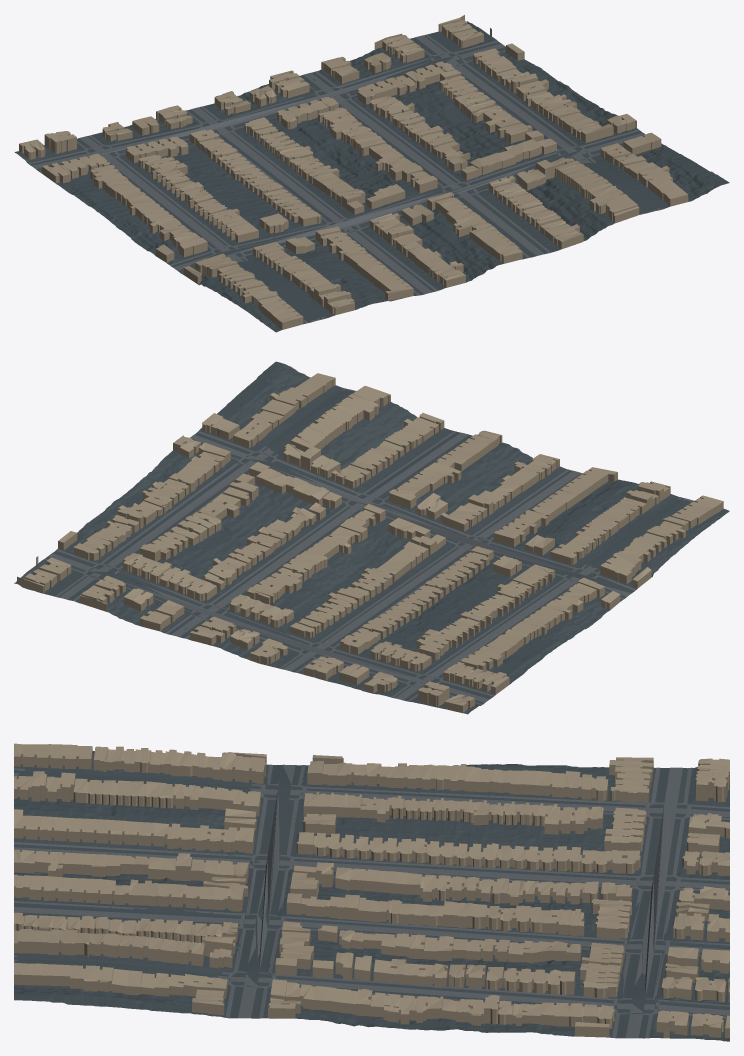
Rendered from epsg26910-1419-10879.lod0.glb.
The picture shows the model from 3 angles, top to bottom: view 1: azimuth 30°, elevation 25°; view 2: azimuth 150°, elevation 25°; view 3: azimuth 270°, elevation 25°; orthographic projection. The views are drawn at different scales.
Visible parts, largest first — view 1: epsg26910-1419-10879-lod0; view 2: epsg26910-1419-10879-lod0; view 3: epsg26910-1419-10879-lod0.
Part boxes in pixels (bbox=[...]): epsg26910-1419-10879-lod0: bbox=[14, 14, 729, 332]; epsg26910-1419-10879-lod0: bbox=[14, 361, 729, 714]; epsg26910-1419-10879-lod0: bbox=[14, 743, 729, 1041].
Bounding box in the file's own units: 384 × 42.76 × 384.
